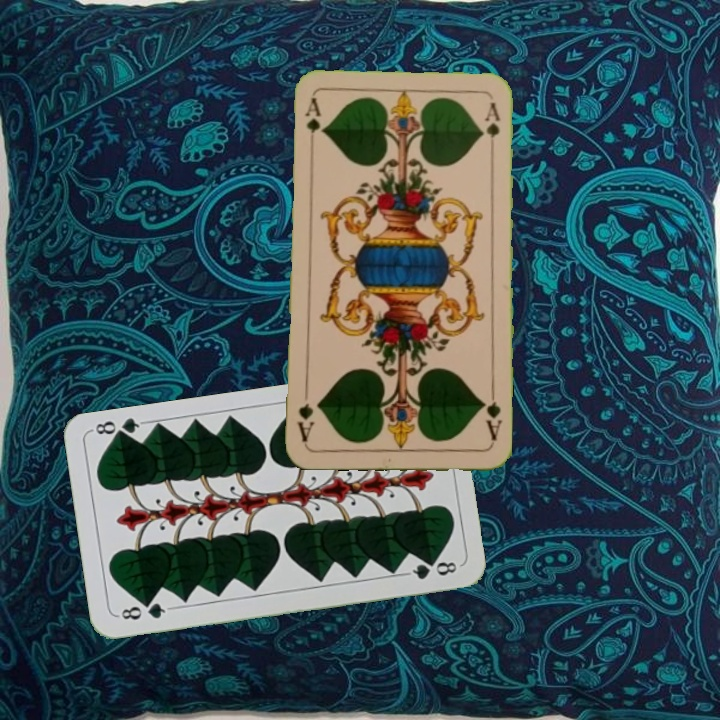G8: (114, 598, 173, 623)
GA: (477, 387, 504, 446), (301, 94, 323, 153)
